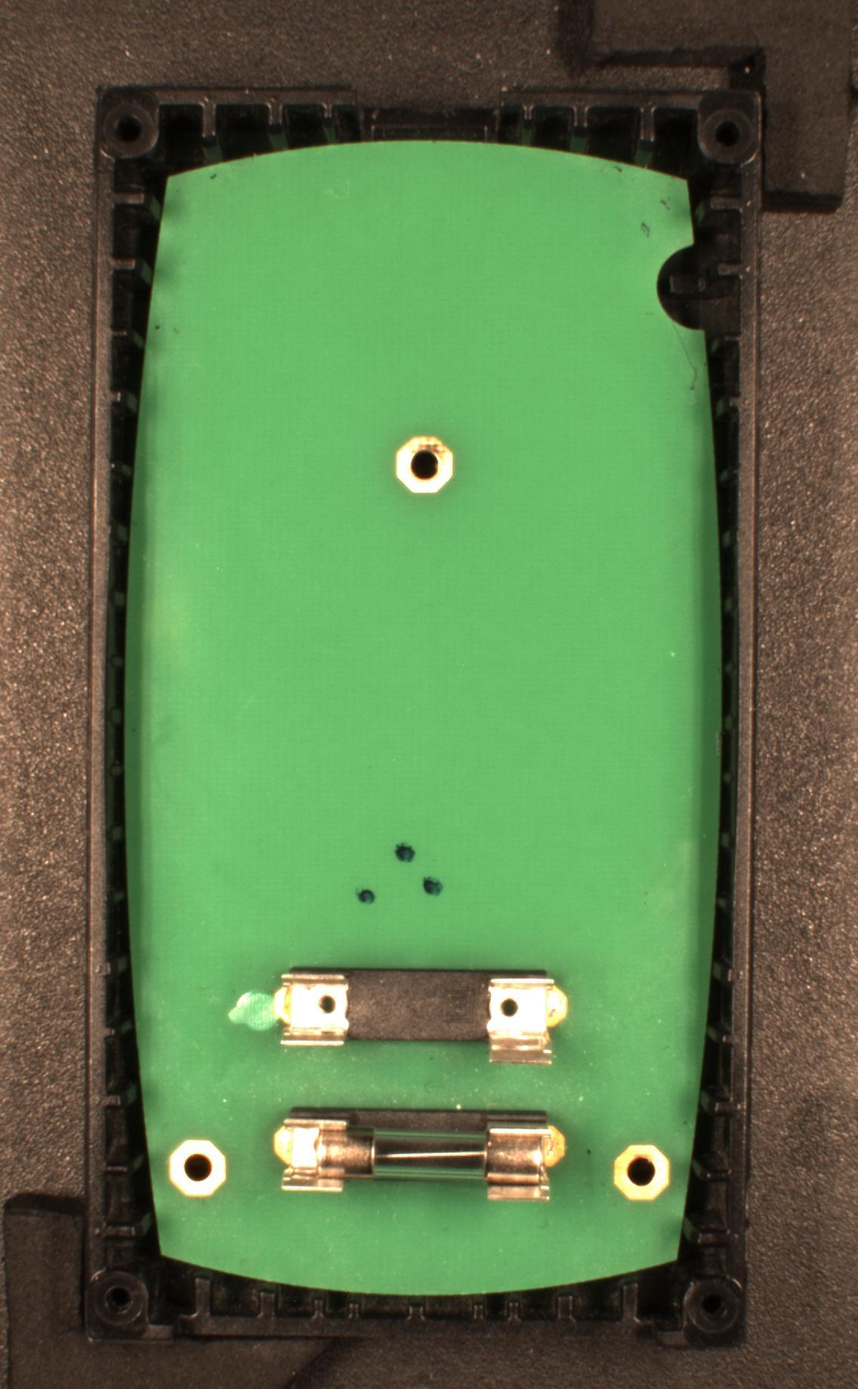Nepostojanje osiguraca: (272, 964, 569, 1068)
Tockasto Ostecenje: (391, 840, 419, 866), (353, 886, 381, 908), (420, 874, 444, 898)
